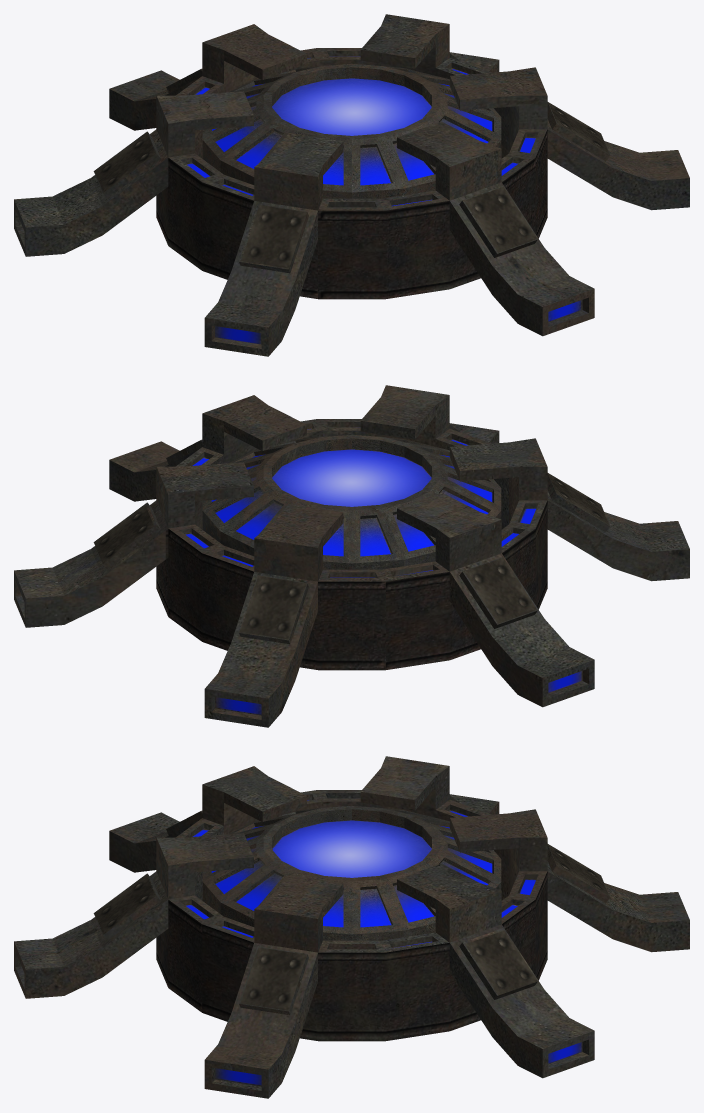
The model's file is teleporter.FBX.
3 views of the same model, one above another, from view 1: azimuth 30°, elevation 25°; view 2: azimuth 150°, elevation 25°; view 3: azimuth 270°, elevation 25° (orthographic).
Visible parts, largest first — view 1: tBase, tPortal; view 2: tBase, tPortal; view 3: tBase, tPortal.
Part boxes in pixels (x1,y1,x2,y2): tBase: (14, 14, 689, 356); tPortal: (202, 63, 501, 198); tBase: (14, 385, 689, 727); tPortal: (202, 434, 501, 569); tBase: (14, 756, 689, 1098); tPortal: (202, 805, 501, 940).
Bounding box in the file's own units: 3.36 × 0.6909 × 3.46.
